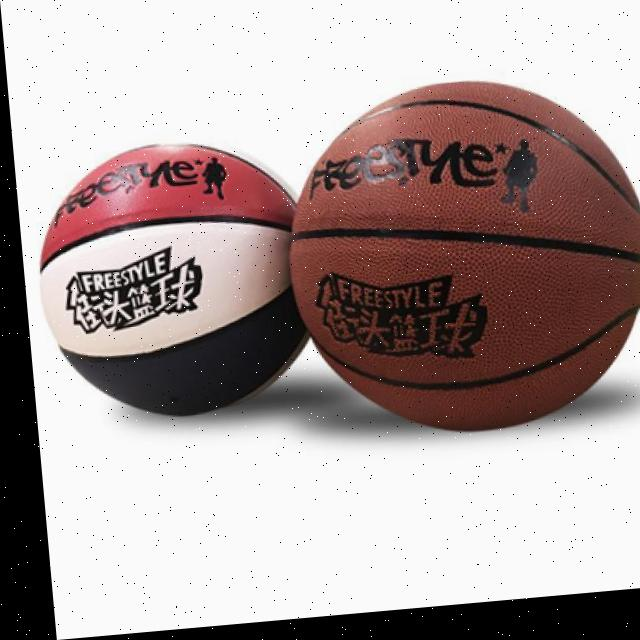Basketball: (278, 69, 640, 446), (28, 132, 317, 427)
